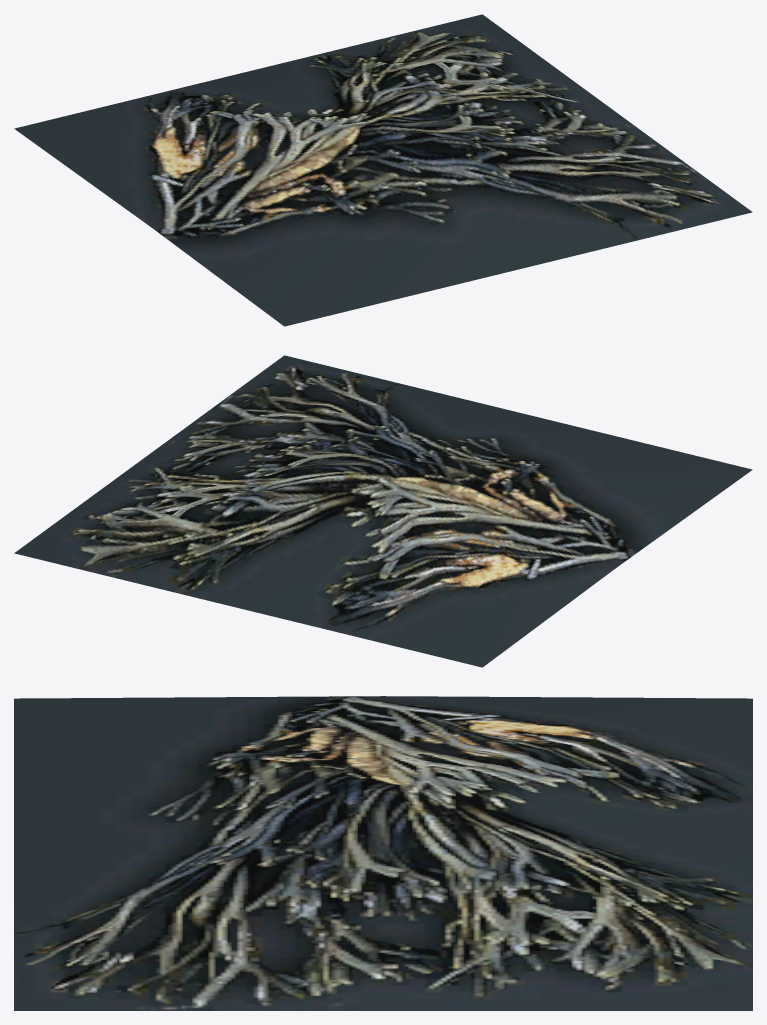
File: shor_seaweed_md_l0.fbx
3 views of the same model, one above another, from view 1: azimuth 30°, elevation 25°; view 2: azimuth 150°, elevation 25°; view 3: azimuth 270°, elevation 25° (orthographic). The views are drawn at different scales.
Parts seen in each view (by area): view 1: mesh_node; view 2: mesh_node; view 3: mesh_node.
Part boxes in pixels (left/top/right/bottom): mesh_node: left=14, top=14, right=752, bottom=326; mesh_node: left=14, top=355, right=752, bottom=667; mesh_node: left=14, top=696, right=752, bottom=1010.
Size of the model in its own units: 1.18 by 0.11 by 1.18.
